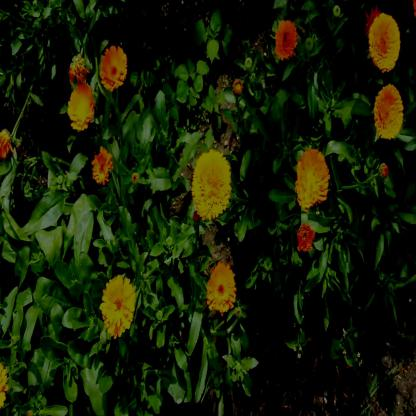marigold: (194, 153, 231, 221), (100, 276, 134, 337), (368, 12, 402, 73), (298, 148, 330, 207), (374, 83, 404, 140), (207, 264, 235, 313), (100, 45, 126, 90), (275, 20, 300, 58), (70, 84, 92, 126), (92, 146, 112, 184)
